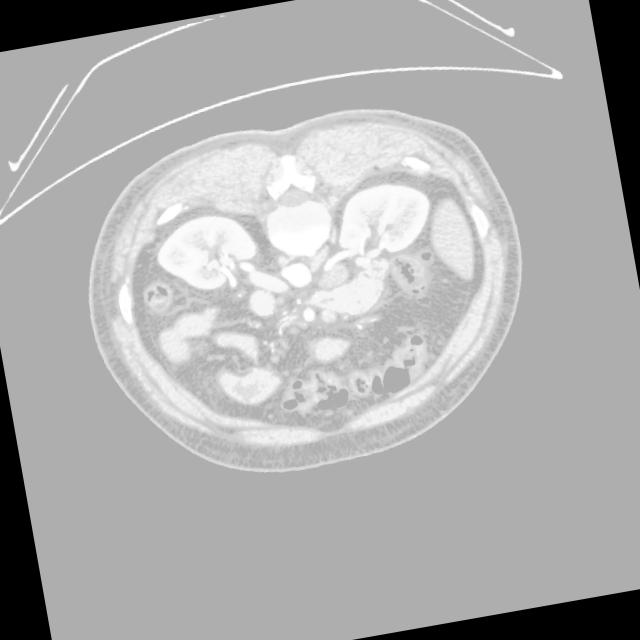NORMAL: (52, 61, 553, 521)
